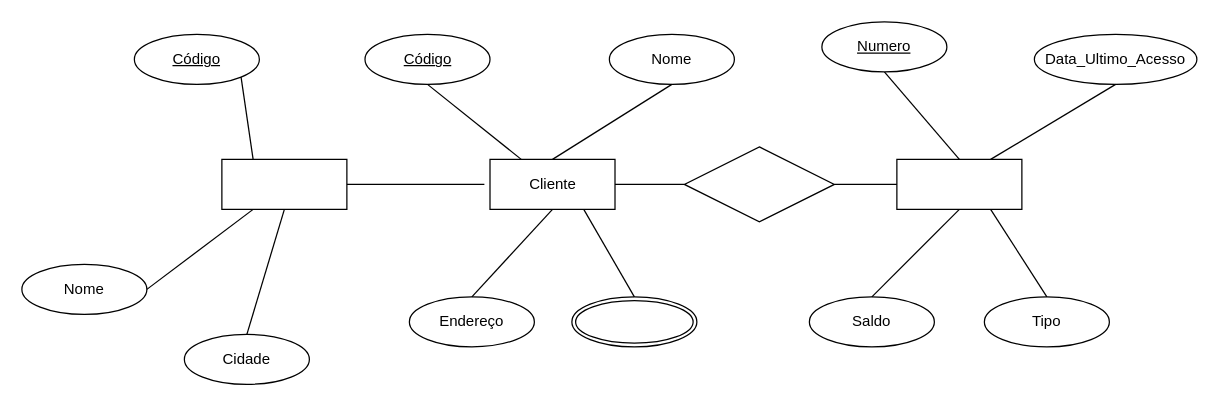
This 1219x406 diagram has some shape labels left out. Each missing label, with the centre of its shape:
"Agência" goes at point (284, 183).
"Conta" goes at point (959, 183).
"Possui" goes at point (758, 184).
"Telefone" goes at point (634, 321).
